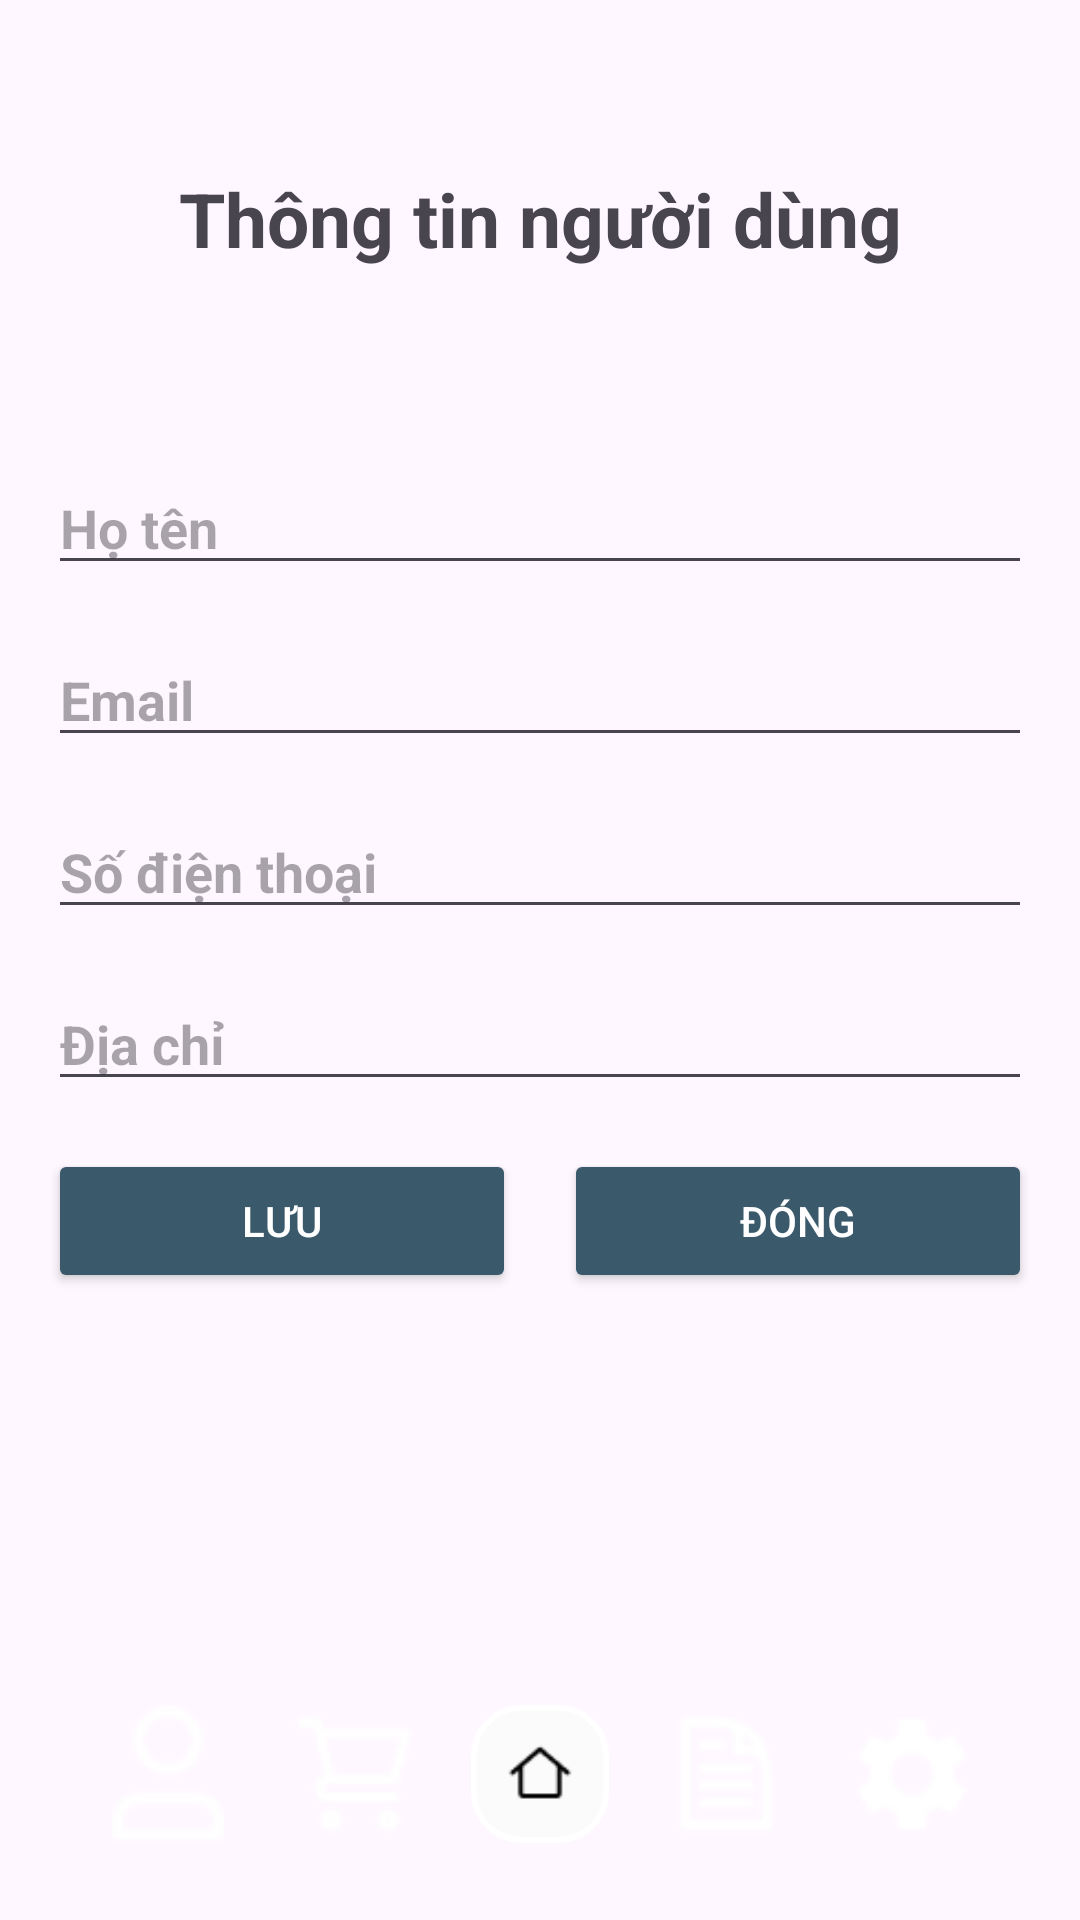

Where to tap for icons on this 1080px x 1920px app screen, as (x,y):
trang chu: (540,1772)
